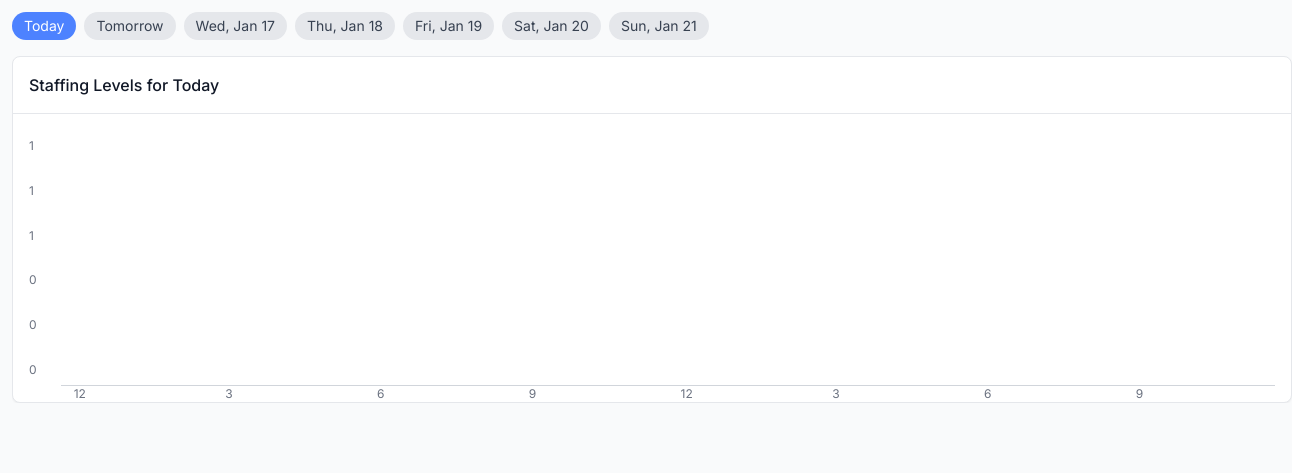
Test case: StaffingLevelsView Component › Time Formatting › should handle date parsing for tomorrow correctly
// Switch to tomorrow
Click the button "Tomorrow" at point(130, 26), box [84,12,176,40]
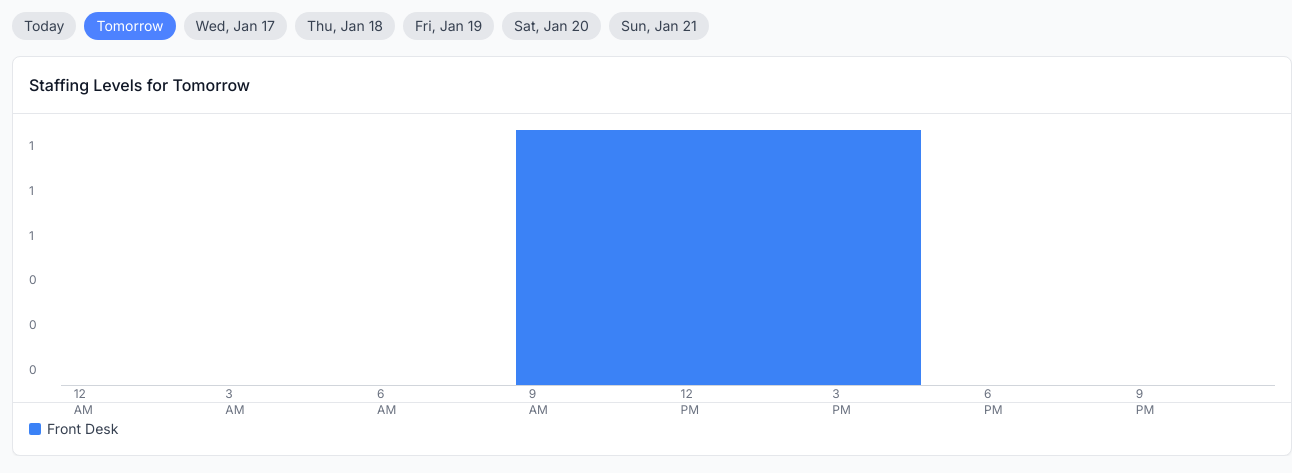
Check: the text "Front Desk" is shown, box [47,419,118,439]
